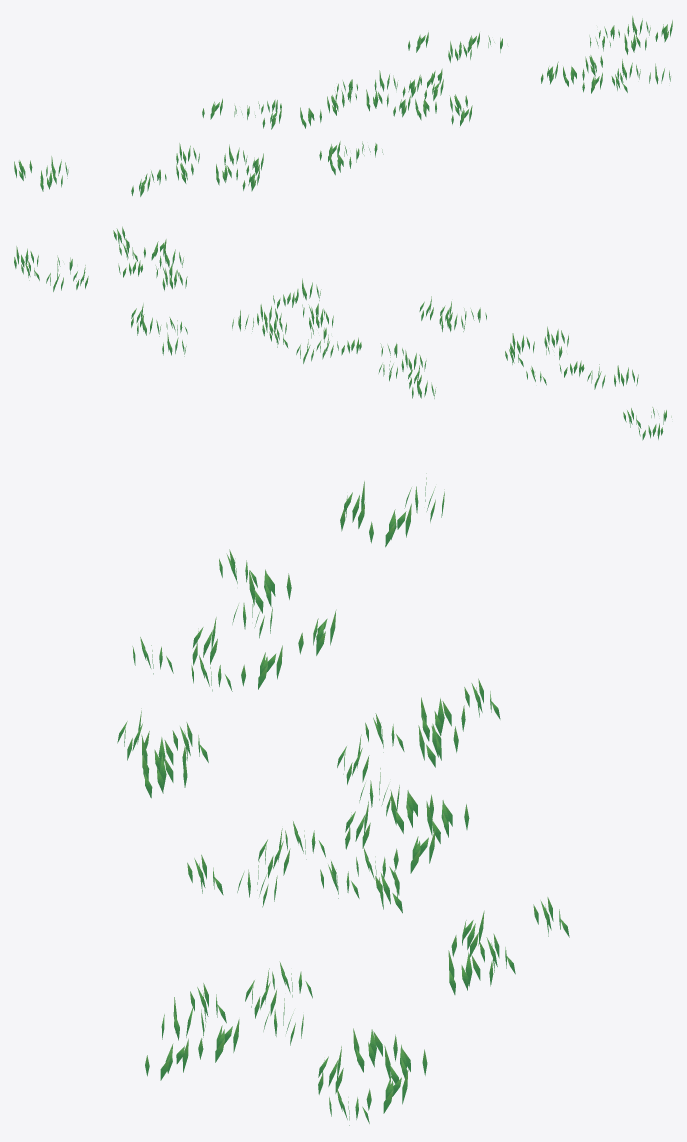
The model's file is plants_un_main_grass_set01_03.gltf.
3 views of the same model, one above another, from view 1: azimuth 30°, elevation 25°; view 2: azimuth 150°, elevation 25°; view 3: azimuth 270°, elevation 25° (orthographic). The views are drawn at different scales.
Parts seen in each view (by area): view 1: plants_un_main_grass_set01_03_mesh_shape:plants_un_main_gras; view 2: plants_un_main_grass_set01_03_mesh_shape:plants_un_main_gras; view 3: plants_un_main_grass_set01_03_mesh_shape:plants_un_main_gras.
Boxes of the visible parts, x1=… form: plants_un_main_grass_set01_03_mesh_shape:plants_un_main_gras: x1=14, y1=16, x2=672, y2=196; plants_un_main_grass_set01_03_mesh_shape:plants_un_main_gras: x1=14, y1=226, x2=671, y2=440; plants_un_main_grass_set01_03_mesh_shape:plants_un_main_gras: x1=117, y1=473, x2=569, y2=1125.
Size of what is drawn, in the model's own units: 14.84 by 0.4188 by 4.55.
Materials: 1 (1 with a texture image).
